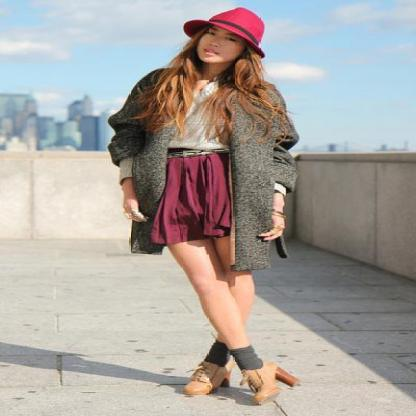hat: (183, 8, 263, 41)
jacket: (108, 75, 301, 271)
shirt: (159, 80, 240, 157)
shoe: (172, 359, 298, 403)
skirt: (152, 148, 241, 248)
